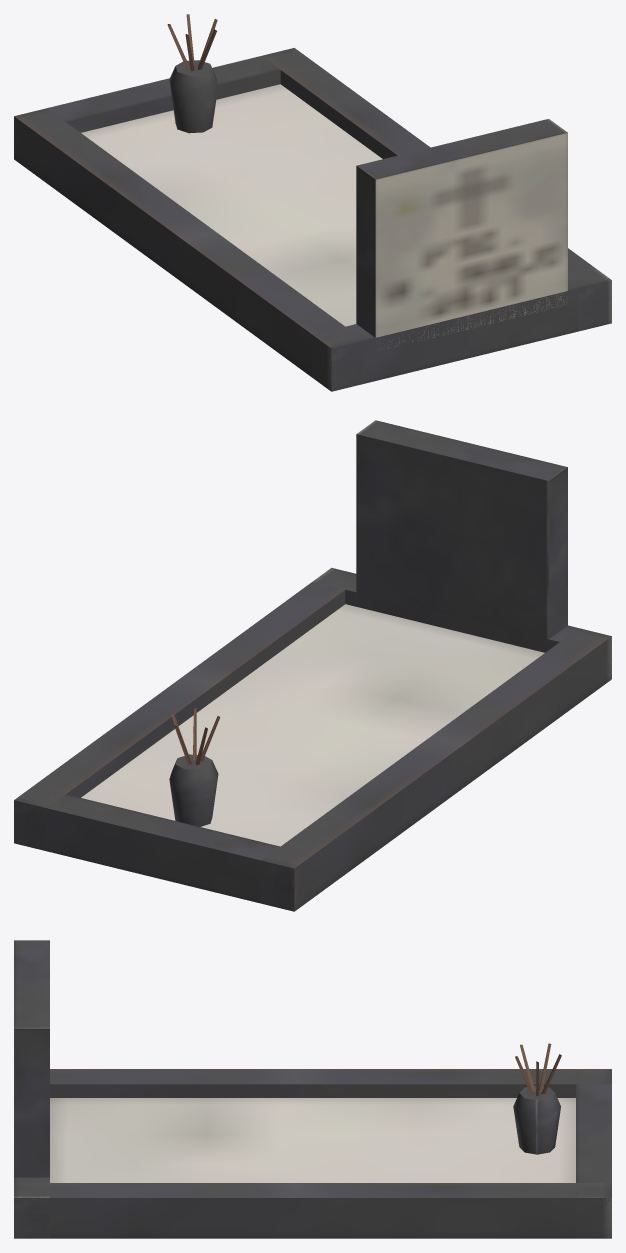
The model's file is grave_kerbed.obj.
3 views of the same model, one above another, from view 1: azimuth 30°, elevation 25°; view 2: azimuth 150°, elevation 25°; view 3: azimuth 270°, elevation 25° (orthographic). The views are drawn at different scales.
Visible parts, largest first — view 1: grave_kerbed; view 2: grave_kerbed; view 3: grave_kerbed.
Part boxes in pixels (x1,y1,x2,y2): grave_kerbed: (14, 14, 611, 391); grave_kerbed: (14, 420, 611, 911); grave_kerbed: (14, 940, 611, 1238).
Size of the model in its own units: 1.02 by 0.7 by 2.
Materials: 1 (1 with a texture image).
